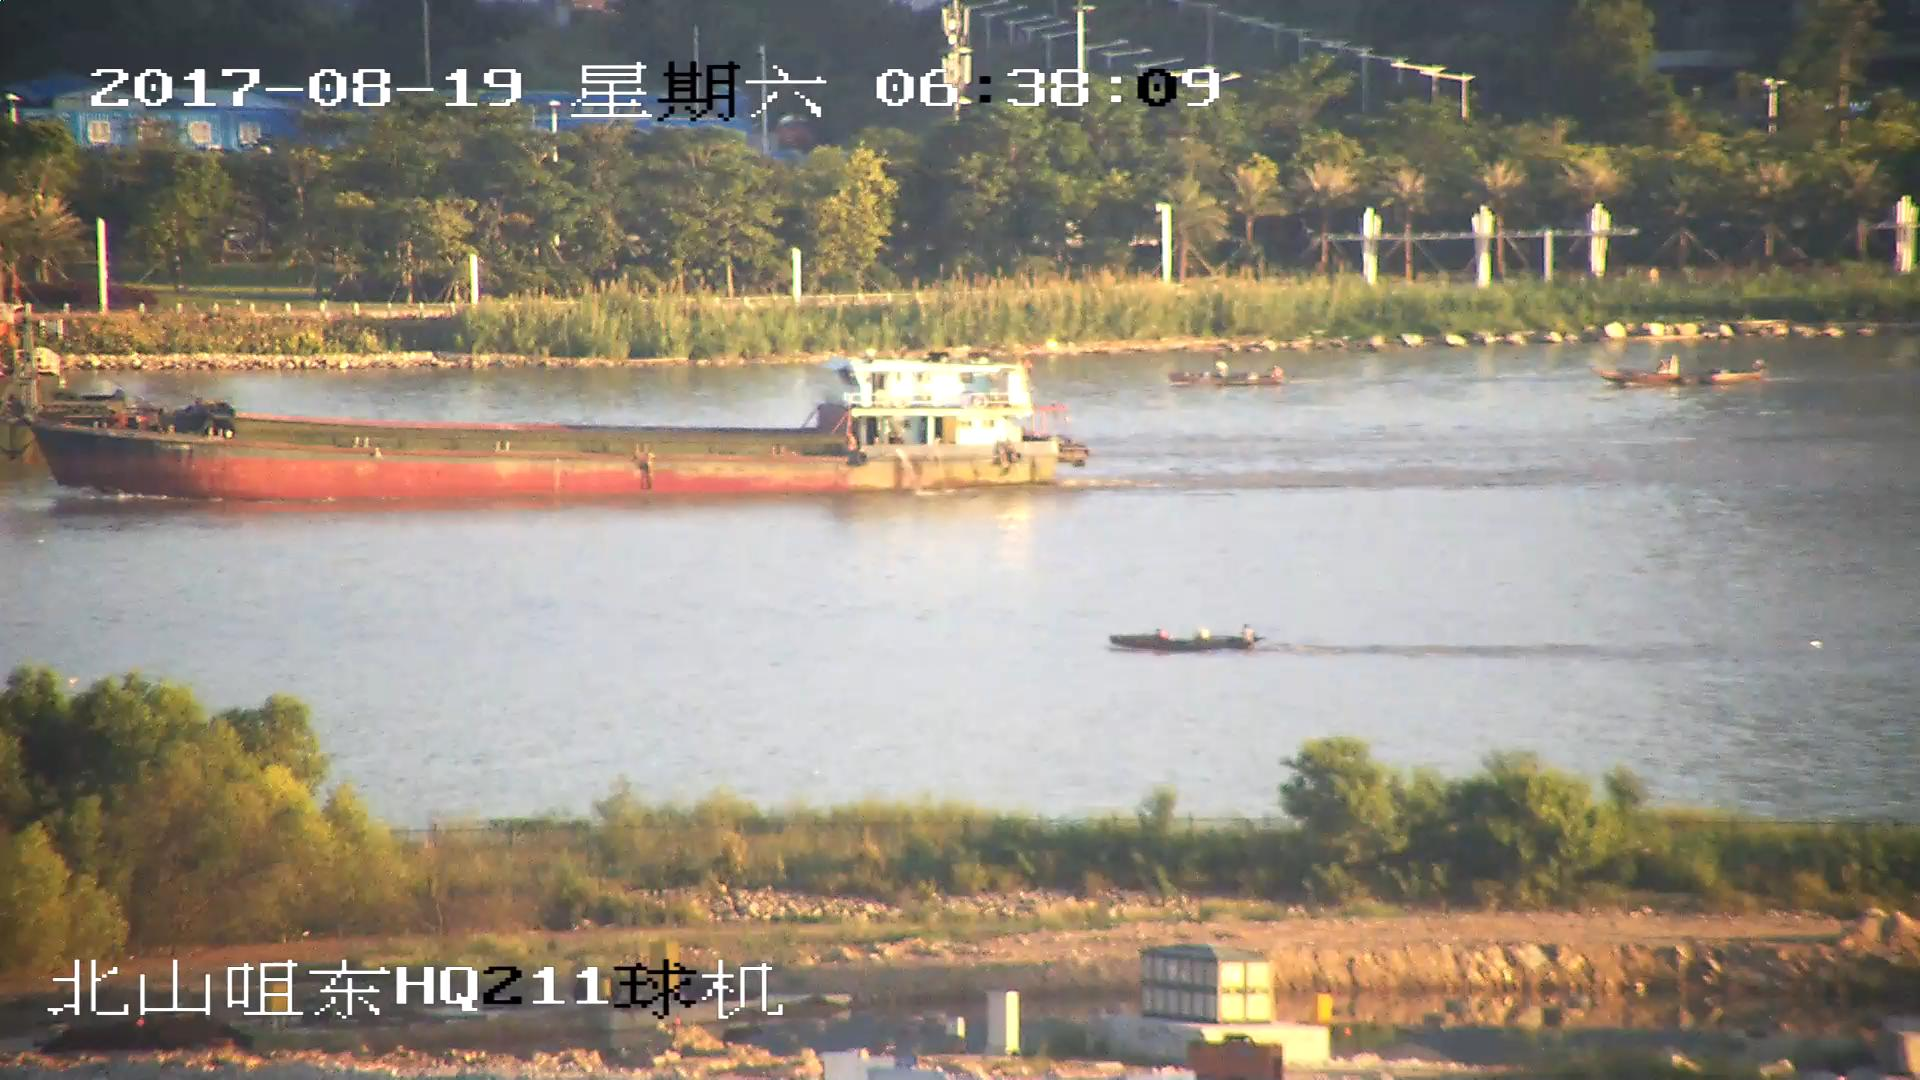bulk cargo carrier: (1, 347, 1087, 490)
fishing boat: (1605, 360, 1772, 390), (1109, 627, 1257, 655), (1175, 358, 1279, 393)
